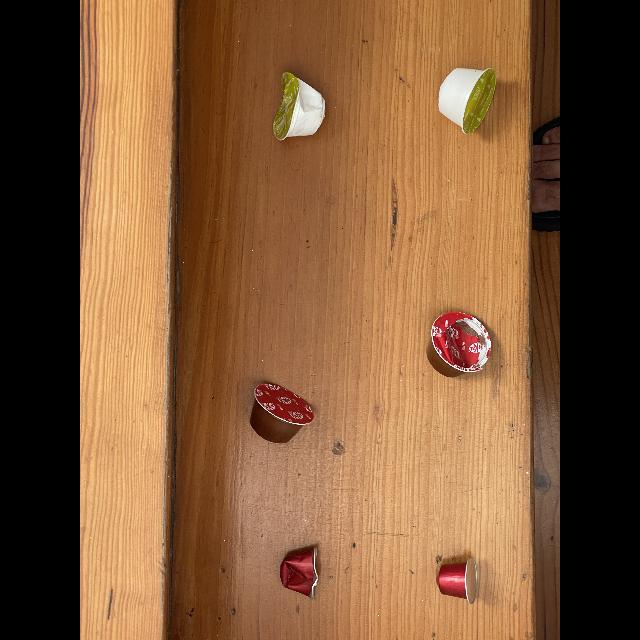damaged_capsule: (423, 306, 505, 382), (262, 68, 338, 150), (279, 538, 335, 600)
intact_capsule: (431, 62, 507, 140), (247, 372, 319, 448), (432, 548, 486, 606)
